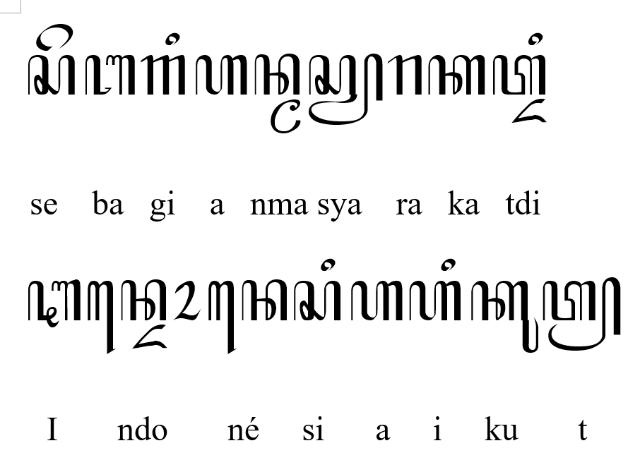-t: (542, 277, 622, 353)
I: (27, 280, 82, 328)
_d: (511, 98, 547, 124), (131, 324, 167, 350)
_m: (269, 98, 301, 134)
b: (84, 54, 136, 96)
e: (36, 24, 74, 52)
e1: (88, 279, 116, 355), (208, 280, 236, 354)
g: (140, 55, 186, 96)
h: (350, 280, 404, 322), (408, 280, 462, 322), (195, 55, 247, 95)
i: (164, 32, 180, 46), (319, 258, 335, 272), (440, 258, 456, 272), (528, 32, 542, 46)
k: (426, 54, 486, 96)
ku: (469, 280, 539, 354)
n: (254, 54, 300, 96), (121, 280, 167, 322), (241, 280, 287, 322)
o: (172, 280, 202, 320)
r: (388, 54, 422, 96)
s: (26, 55, 76, 96), (293, 280, 341, 322)
sy: (308, 52, 384, 125)
t: (492, 55, 546, 96)
